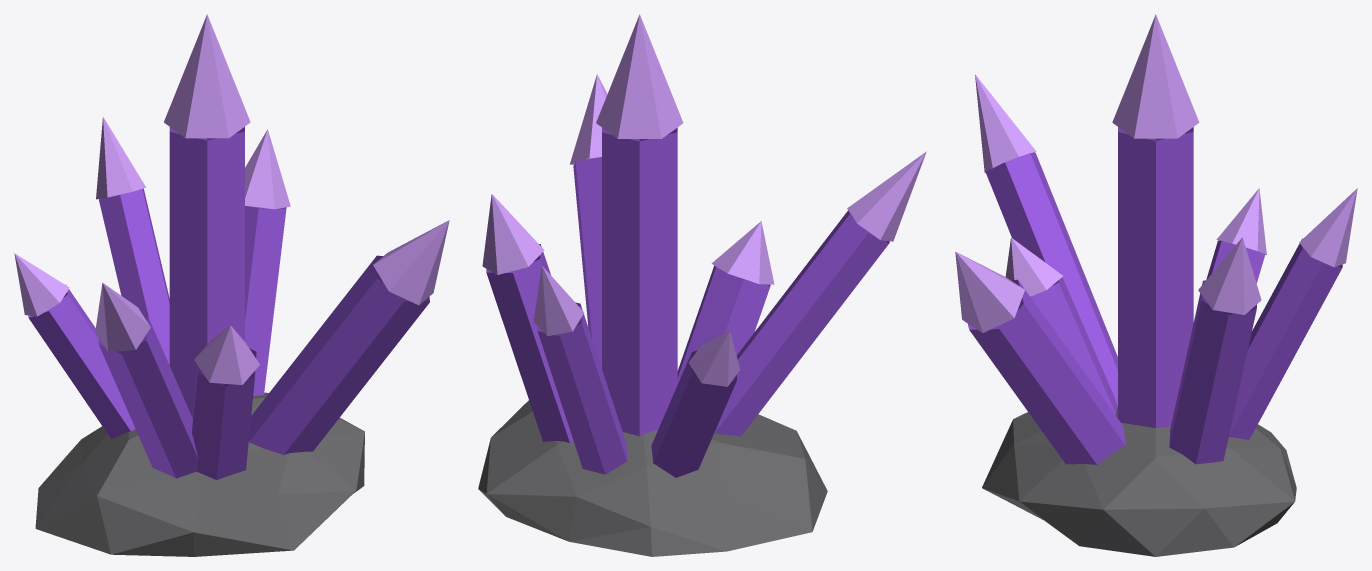
The model's file is crystals_c.obj.
3 renders of one model, left to right at view 1: azimuth 30°, elevation 25°; view 2: azimuth 150°, elevation 25°; view 3: azimuth 270°, elevation 25°, orthographic.
Size of the model in its own units: 0.9 by 1.2 by 0.9233.
